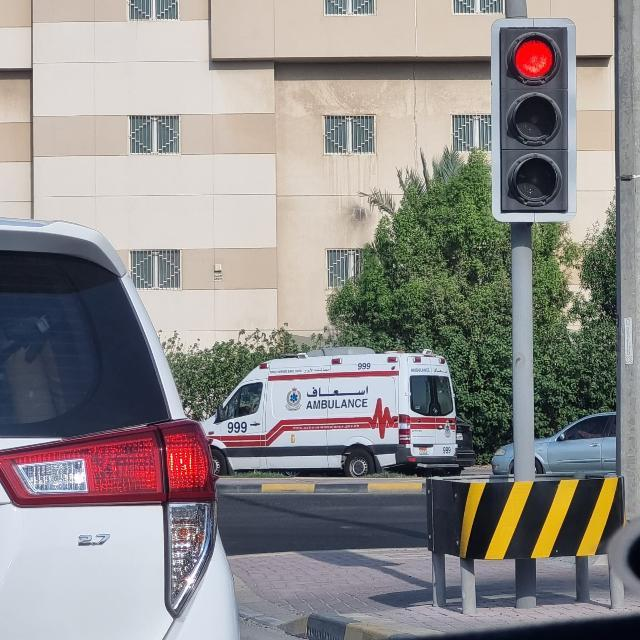emergency-vehicle: (188, 346, 456, 476)
